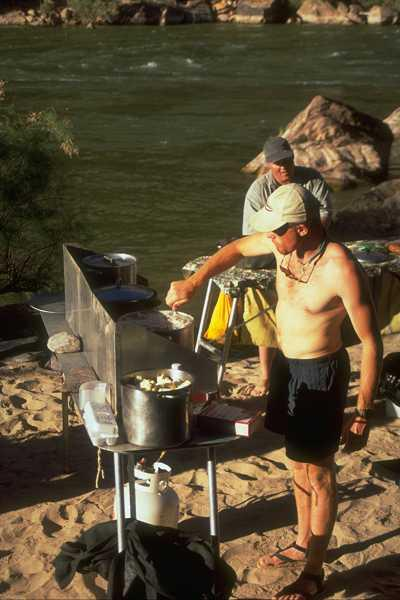person: (165, 186, 385, 596)
